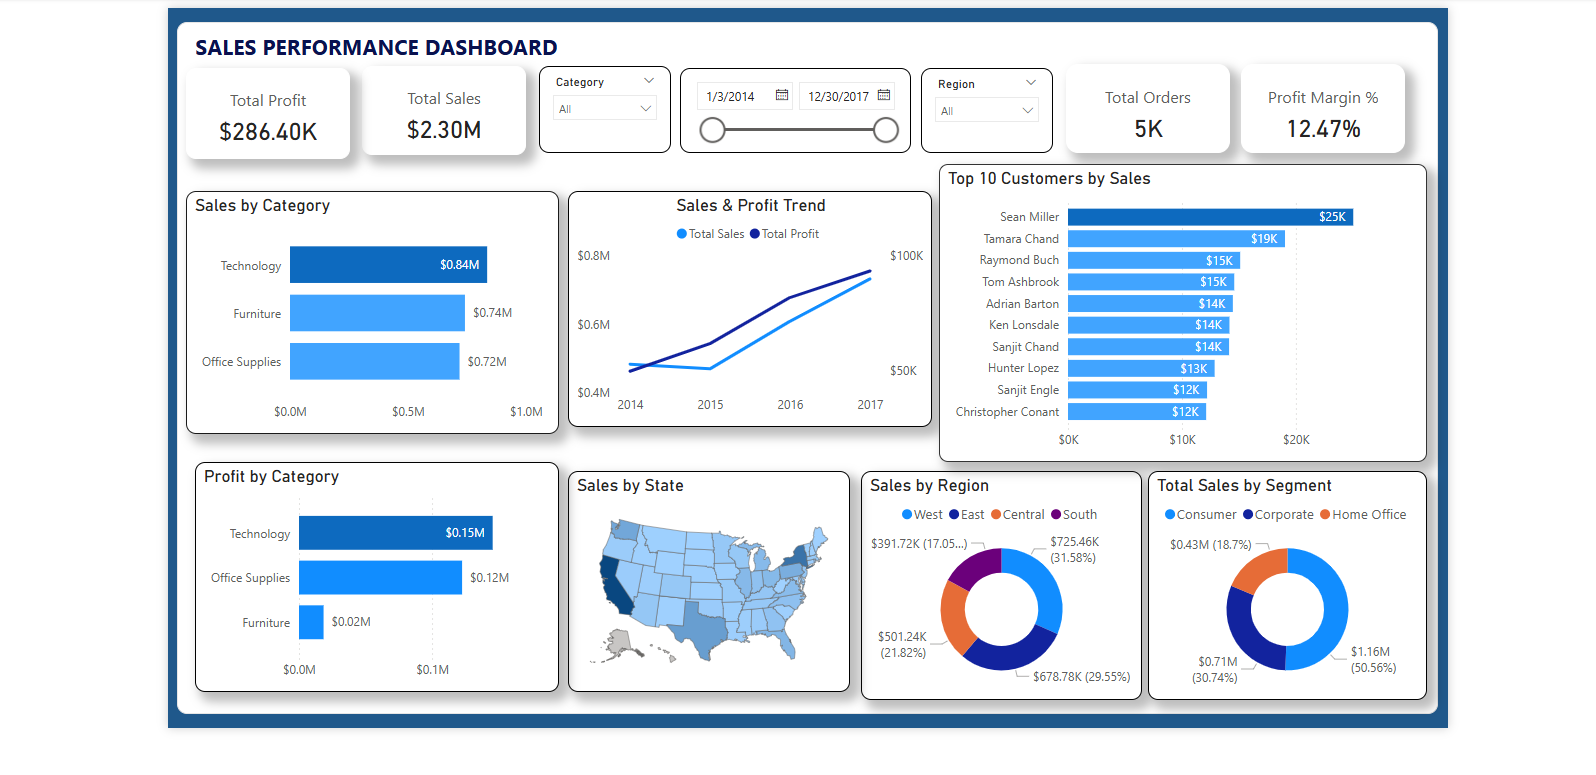

What the dashboard file says about the page in this screenshot:
{"tool":"powerbi","page":{"name":"Page 1","canvas":[1280,720],"ordinal":0},"visuals":[{"type":"shape","box":[8.8,13.6,1261.5,692.5],"z":0},{"type":"textbox","box":[0,19.5,417.3,40.9],"z":1000},{"type":"cardVisual","title":"Total Sales","fields":{"Data":["Sample - Superstore.Total Sales"]},"box":[193.6,58.4,164.4,88.5],"z":2000},{"type":"cardVisual","title":"Total Profit","fields":{"Data":["Sample - Superstore.Total Profit"]},"box":[17.5,60.3,164.4,90.5],"z":3000},{"type":"cardVisual","title":"Total Orders","fields":{"Data":["Sample - Superstore.Total Orders"]},"box":[897.8,56.4,164.4,88.5],"z":4000},{"type":"cardVisual","title":"Profit Margin %","fields":{"Data":["Sample - Superstore.Profit Margin %"]},"box":[1072.8,56.4,164.4,88.5],"z":5000},{"type":"clusteredBarChart","title":"Sales by Category","fields":{"Category":["Sample - Superstore.Category"],"Y":["Sample - Superstore.Total Sales"]},"box":[17.5,182.9,373.5,243.2],"z":6000},{"type":"lineChart","title":"Sales & Profit Trend","fields":{"Category":["Sample - Superstore.Order Date.Variation.Date Hierarchy.Year"],"Y":["Sample - Superstore.Total Sales"],"Y2":["Sample - Superstore.Total Profit"]},"box":[399.8,182.9,363.8,236.4],"z":7000},{"type":"donutChart","title":"Sales by Region","fields":{"Y":["Sample - Superstore.Total Sales"],"Category":["Sample - Superstore.Region"]},"box":[693.5,463,280.1,228.6],"z":8000},{"type":"clusteredBarChart","title":"Top 10 Customers by Sales","fields":{"Category":["Sample - Superstore.Customer Name"],"Y":["Sample - Superstore.Total Sales"]},"box":[771.3,155.6,487.3,298.6],"z":9000},{"type":"shapeMap","title":"Sales by State","fields":{"Category":["Sample - Superstore.State"],"Value":["Sample - Superstore.Total Sales"]},"box":[399.8,463,282.1,220.8],"z":10000},{"type":"slicer","title":"Filter by Year","fields":{"Values":["Sample - Superstore.Order Date"]},"box":[511.6,60.3,231.5,84.6],"z":11000},{"type":"slicer","fields":{"Values":["Sample - Superstore.Region"]},"box":[752.8,60.3,132.3,84.6],"z":12000},{"type":"clusteredBarChart","title":"Profit by Category","fields":{"Category":["Sample - Superstore.Category"],"Y":["Sample - Superstore.Total Profit"]},"box":[27.2,454.2,363.8,229.5],"z":13000},{"type":"donutChart","fields":{"Category":["Sample - Superstore.Segment"],"Y":["Sample - Superstore.Total Sales"]},"box":[980.4,463,278.2,228.6],"z":14000},{"type":"slicer","fields":{"Values":["Sample - Superstore.Category"]},"box":[370.6,58.4,132.3,86.6],"z":15000}]}

Visuals, with their boxes in screenshot pixels (x1, y1, x2, y2):
shape: 163,14,1451,721
textbox: 154,20,580,62
"Total Sales" cardVisual: 352,60,519,150
"Total Profit" cardVisual: 172,62,340,154
"Total Orders" cardVisual: 1071,58,1239,148
"Profit Margin %" cardVisual: 1249,58,1417,148
"Sales by Category" clusteredBarChart: 172,187,553,435
"Sales & Profit Trend" lineChart: 562,187,934,428
"Sales by Region" donutChart: 862,473,1148,706
"Top 10 Customers by Sales" clusteredBarChart: 942,159,1439,464
"Sales by State" shapeMap: 562,473,850,698
"Filter by Year" slicer: 676,62,913,148
slicer - Sample - Superstore.Region: 923,62,1058,148
"Profit by Category" clusteredBarChart: 182,464,553,698
donutChart - Sample - Superstore.Segment x Sample - Superstore.Total Sales: 1155,473,1439,706
slicer - Sample - Superstore.Category: 532,60,667,148
